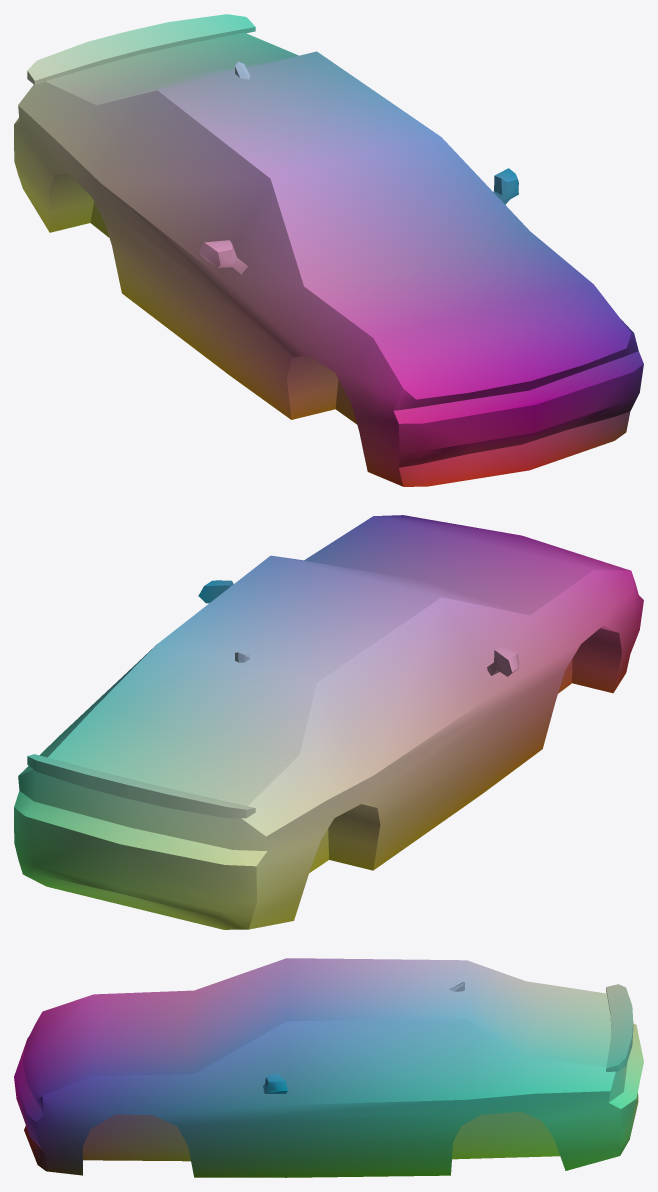
Rendered from DodgeChallangerCarOnly.fbx.
3 renders of one model, top to bottom at view 1: azimuth 30°, elevation 25°; view 2: azimuth 150°, elevation 25°; view 3: azimuth 270°, elevation 25°, orthographic. The views are drawn at different scales.
Visible parts, largest first — view 1: Car; view 2: Car; view 3: Car.
Part boxes in pixels (<box>): Car: <box>14,14,643,486</box>; Car: <box>14,515,643,929</box>; Car: <box>14,958,643,1177</box>.
Size of the model in its own units: 2.19 by 1.31 by 5.01.
